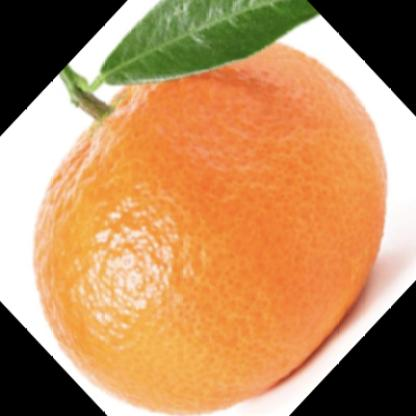fresh: (35, 38, 386, 416)
